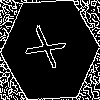X: (25, 25, 75, 75)
